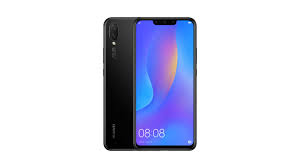huawei: (100, 15, 196, 154), (129, 18, 198, 154)
